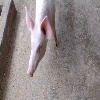heo: (23, 1, 58, 79)
